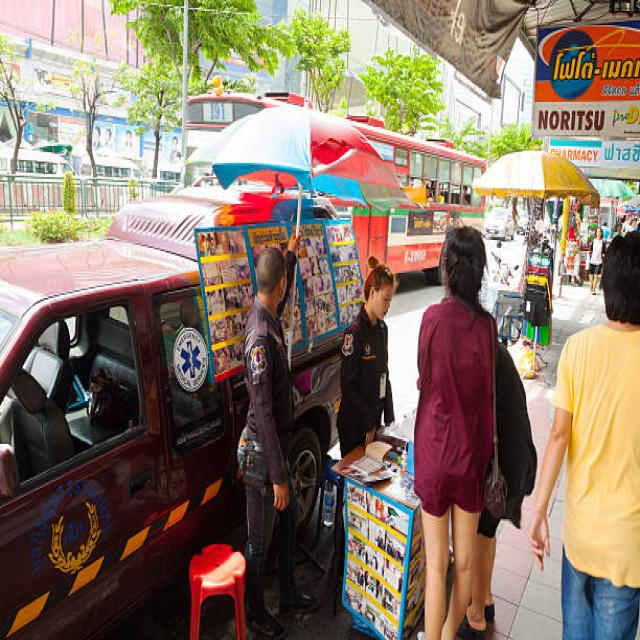Emperan: (0, 78, 538, 640)
